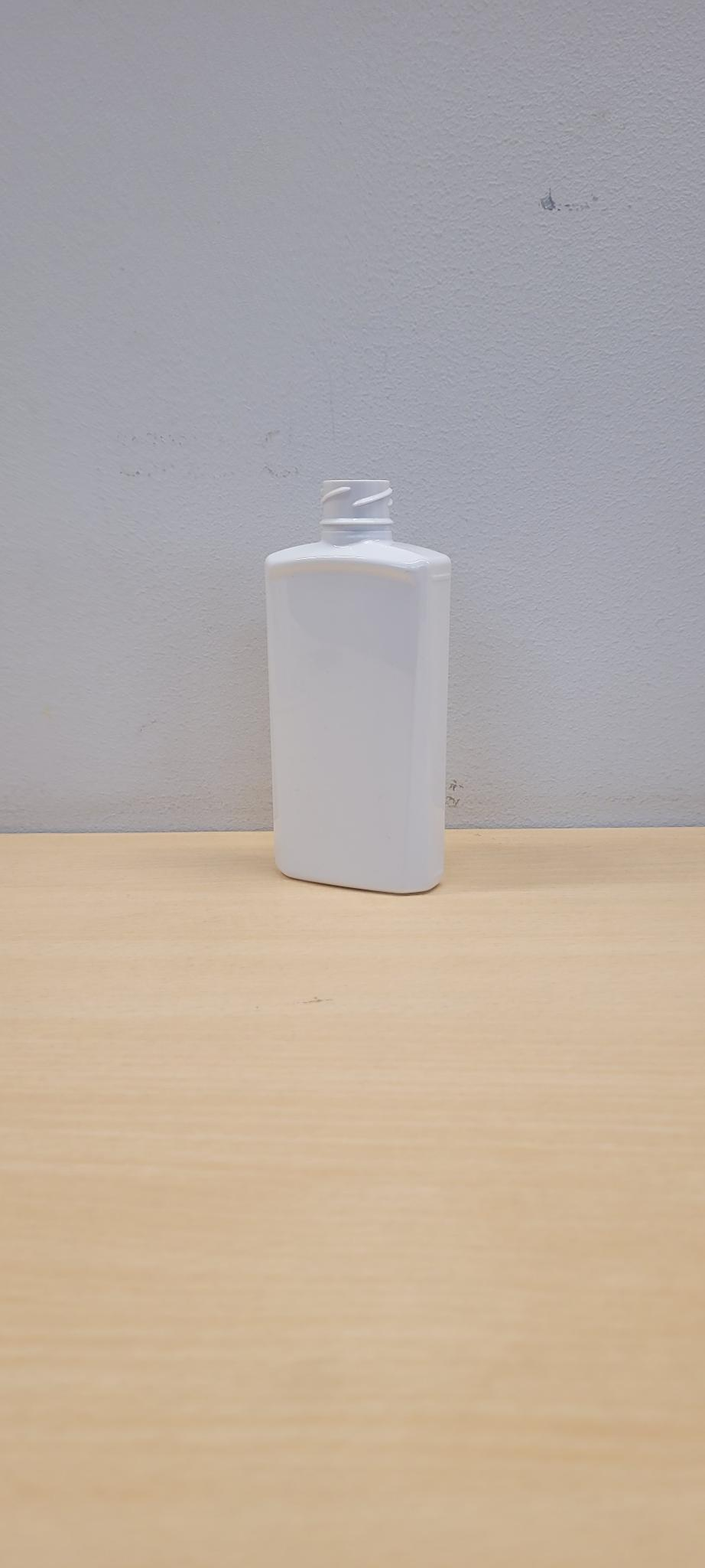bottle: (266, 479, 451, 894)
